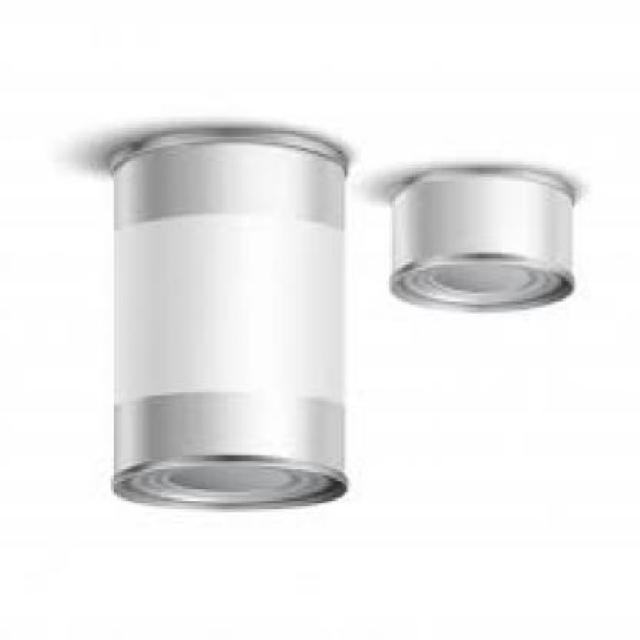METAL: (110, 131, 348, 509), (387, 168, 575, 315)
